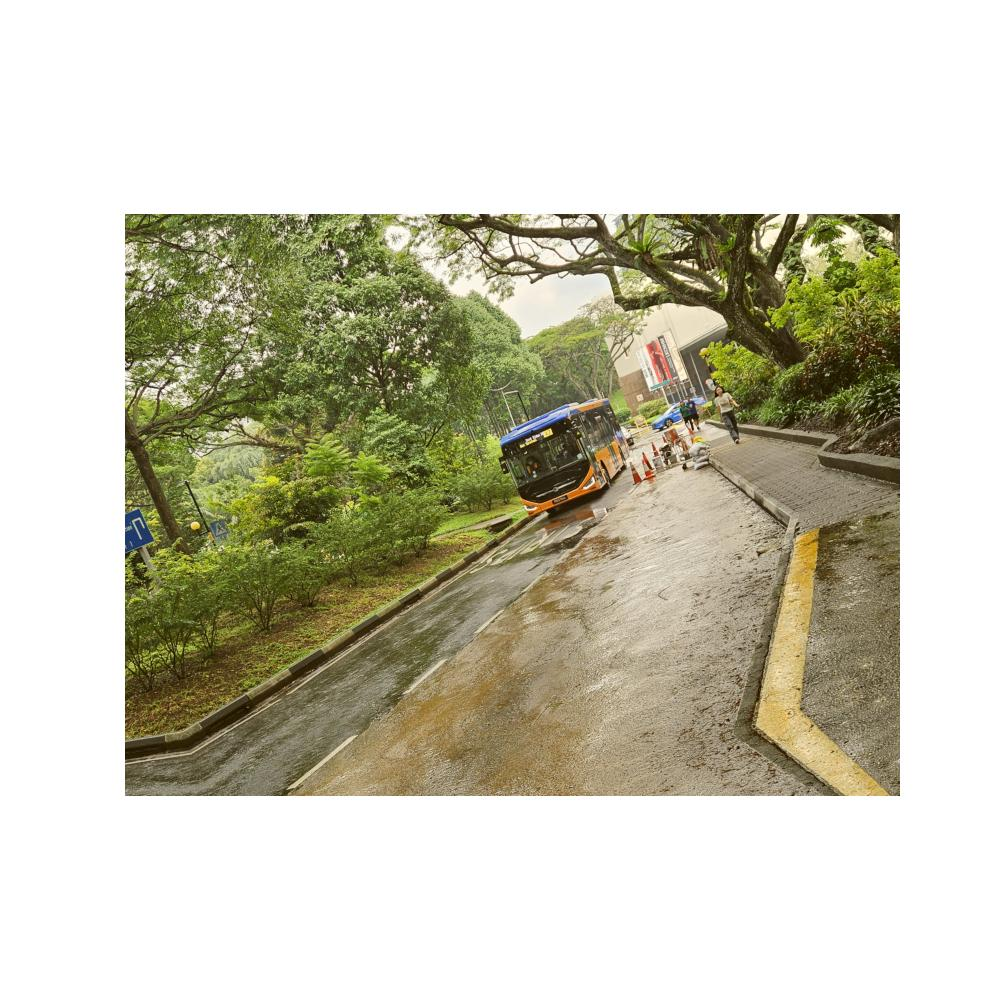bus: (500, 397, 634, 517)
